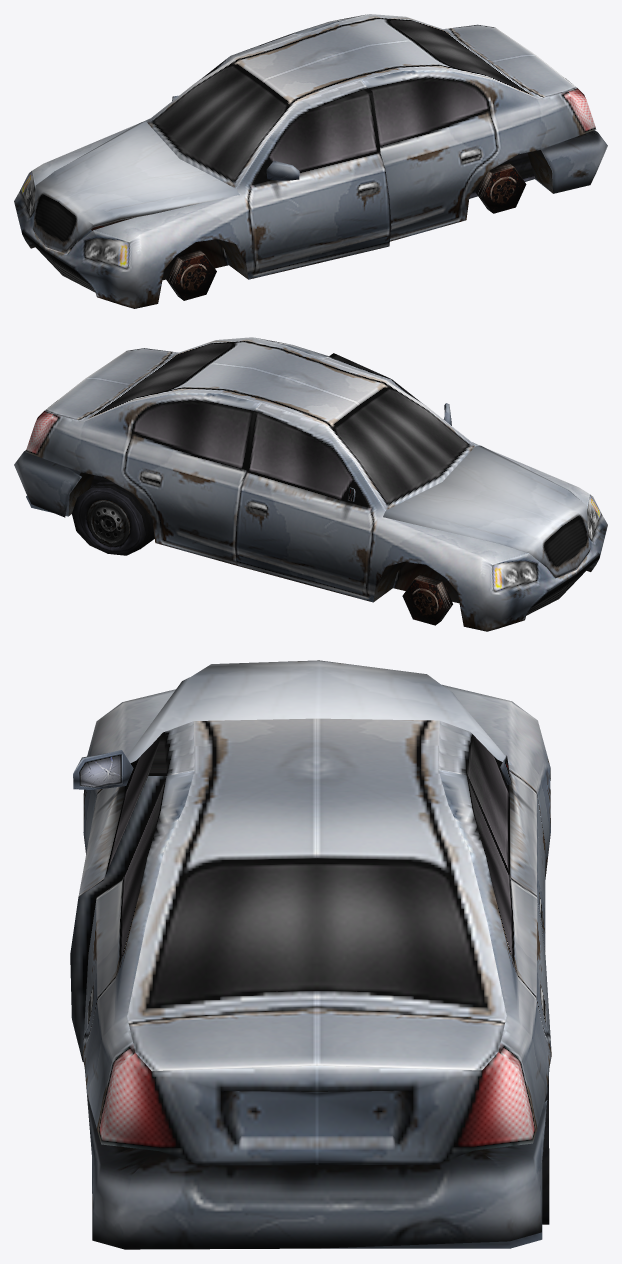
The model's file is oldcar.glb.
The picture shows the model from 3 angles, top to bottom: view 1: azimuth 30°, elevation 25°; view 2: azimuth 150°, elevation 25°; view 3: azimuth 270°, elevation 25°; orthographic projection. The views are drawn at different scales.
Parts seen in each view (by area): view 1: __lithtech_lh_to_gltf_rh__, Box05; view 2: __lithtech_lh_to_gltf_rh__, Box05; view 3: __lithtech_lh_to_gltf_rh__, Box05.
Part boxes in pixels (<box>): __lithtech_lh_to_gltf_rh__: <box>14,14,596,308</box>; Box05: <box>91,95,607,300</box>; __lithtech_lh_to_gltf_rh__: <box>25,337,607,631</box>; Box05: <box>14,403,452,625</box>; __lithtech_lh_to_gltf_rh__: <box>70,660,551,1248</box>; Box05: <box>73,750,550,1249</box>.
Size of the model in its own units: 100 by 30.63 by 40.7.
Materials: 3 (3 with a texture image).
